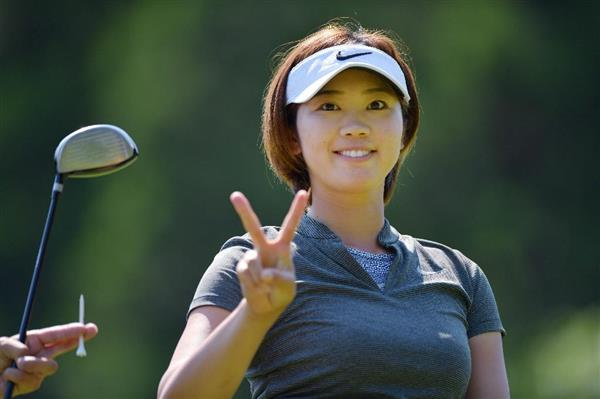face: (296, 68, 403, 190)
hand: (230, 189, 308, 314), (1, 321, 98, 399)
